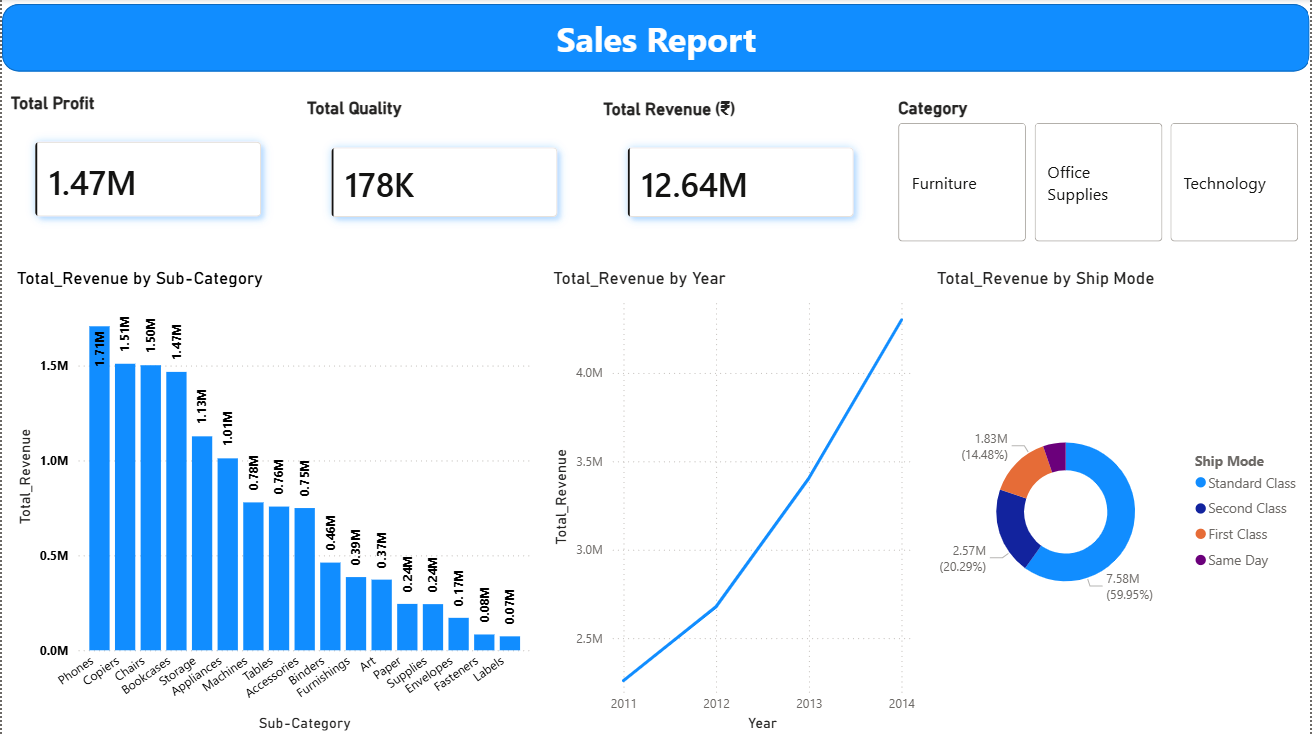

Layout of this report page (visuals, bound fields, positions):
{"tool":"powerbi","page":{"name":"Page 1","canvas":[1280,720],"ordinal":0},"visuals":[{"type":"cardVisual","title":"Total Profit","fields":{"Data":["Orders.Total_Profit_"]},"box":[3.6,92,279.9,150.9],"z":0},{"type":"cardVisual","title":"Total Quality","fields":{"Data":["Orders.Total_Quantity"]},"box":[293.1,92,279.9,150.9],"z":1000},{"type":"cardVisual","title":"Total Revenue (₹)","fields":{"Data":["Orders.Total_Revenue"]},"box":[582.7,92,279.9,150.9],"z":2000},{"type":"columnChart","fields":{"Category":["Orders.Sub-Category"],"Y":["Orders.Total_Revenue"]},"box":[10,257.5,512.5,462.5],"z":3000},{"type":"donutChart","fields":{"Y":["Orders.Total_Revenue"],"Category":["Orders.Ship Mode"]},"box":[910,257.5,370,462.5],"z":4000},{"type":"lineChart","fields":{"Category":["Orders.Order Date.Variation.Date Hierarchy.Year"],"Y":["Orders.Total_Revenue"]},"box":[534.4,257.5,363.8,462.5],"z":5000},{"type":"advancedSlicerVisual","fields":{"Values":["Orders.Category"]},"box":[872.2,92,402.1,150.9],"z":6000},{"type":"shape","title":"werfwefr","box":[0,0,1280,76.2],"z":7000}]}

Visuals, with their boxes in screenshot pixels (x1, y1, x2, y2), scaled from the page's 1280x720 canvas onto the 1312x735 screenshot:
"Total Profit" cardVisual: (4,94,291,248)
"Total Quality" cardVisual: (300,94,587,248)
"Total Revenue (₹)" cardVisual: (597,94,884,248)
columnChart - Orders.Sub-Category x Orders.Total_Revenue: (10,263,536,734)
donutChart - Orders.Total_Revenue x Orders.Ship Mode: (933,263,1311,734)
lineChart - Orders.Order Date.Variation.Date Hierarchy.Year x Orders.Total_Revenue: (548,263,921,734)
advancedSlicerVisual - Orders.Category: (894,94,1306,248)
"werfwefr" shape: (0,0,1311,78)
